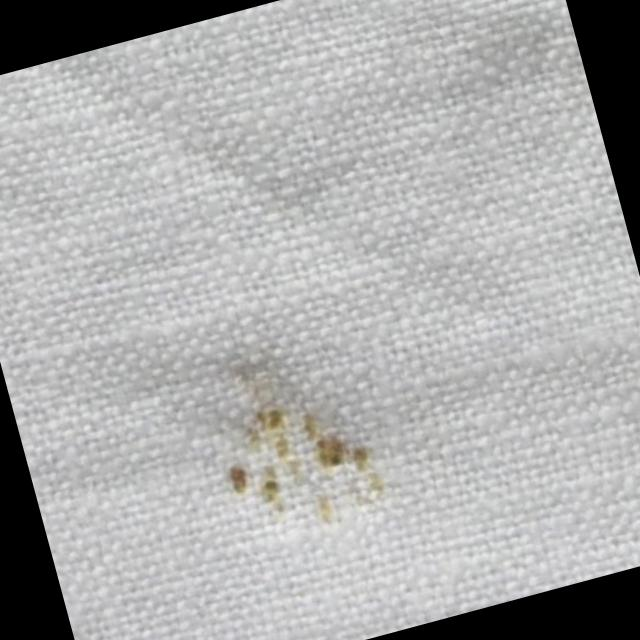Stain: (192, 326, 390, 541)
